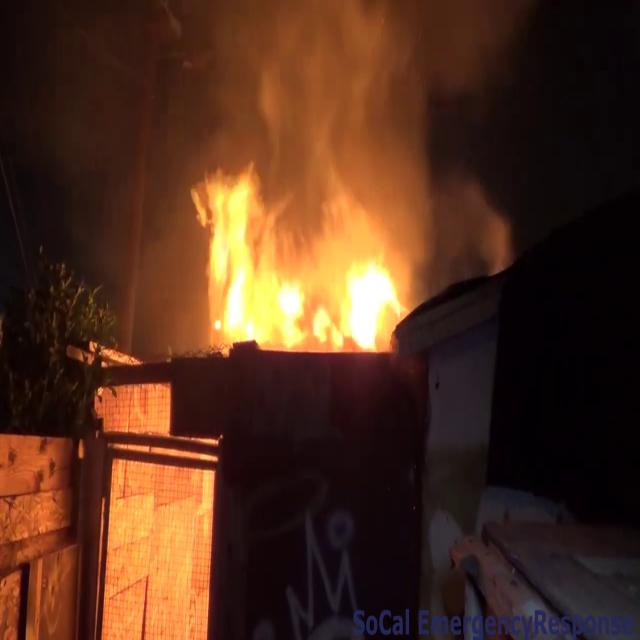Fire: (194, 172, 410, 358)
Smoke: (247, 0, 520, 261)
